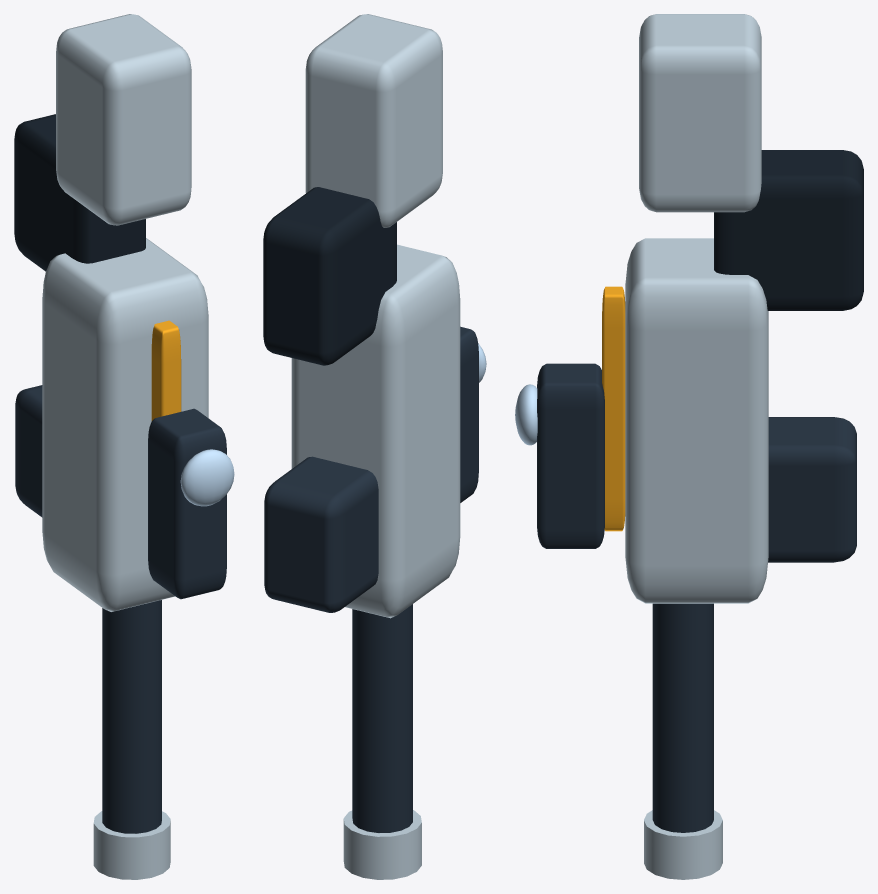
Rendered from rifle-1.glb.
3 renders of one model, left to right at view 1: azimuth 30°, elevation 25°; view 2: azimuth 150°, elevation 25°; view 3: azimuth 270°, elevation 25°, orthographic.
Size of the model in its own units: 0.1928 by 1.37 by 0.5197.
